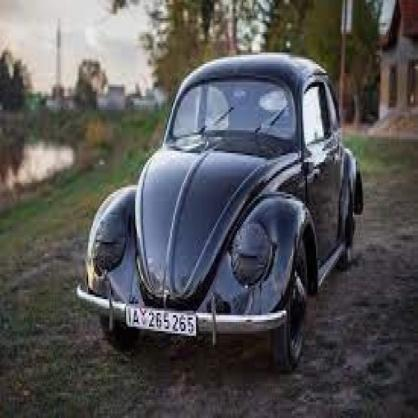car: (81, 54, 366, 372)
